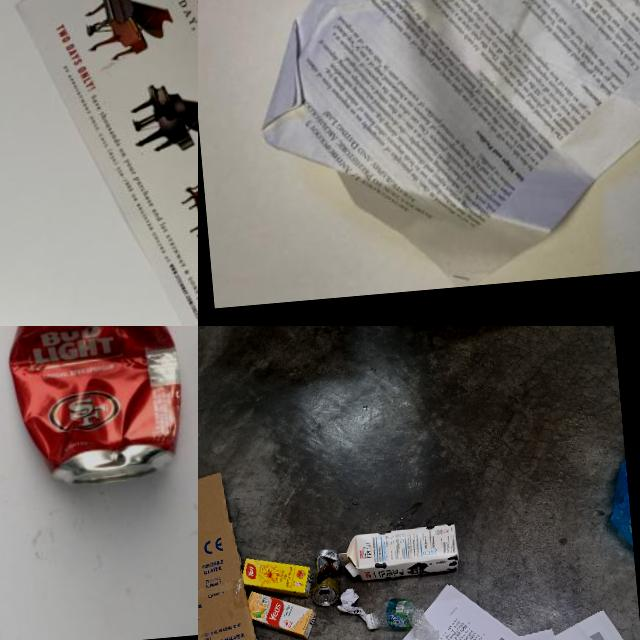aba de lata: (320, 592, 330, 603)
caixinha: (337, 522, 460, 582), (247, 585, 317, 640), (240, 552, 315, 603)
garrafa plástica: (364, 593, 440, 640)
lata: (0, 326, 191, 490), (308, 548, 342, 606)
papel: (233, 0, 640, 295), (11, 0, 198, 326), (346, 568, 640, 640), (335, 586, 367, 622)
papelão: (198, 469, 272, 640)
sacola plástica: (604, 450, 634, 552)
tampa plástica: (344, 560, 360, 578), (364, 612, 378, 629)
